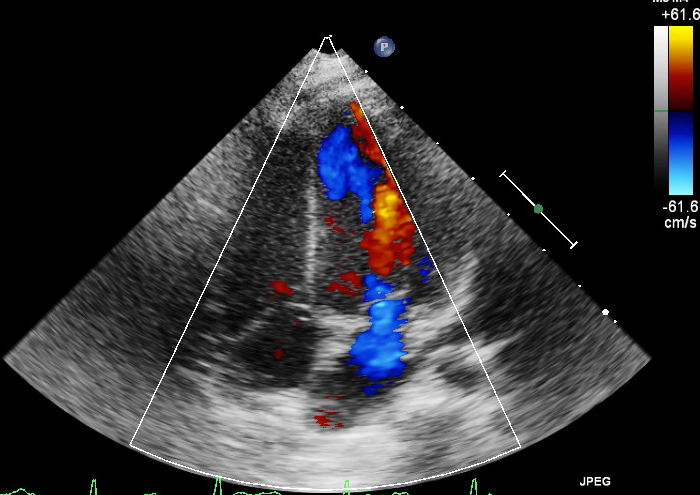MR: (347, 275, 412, 350)
